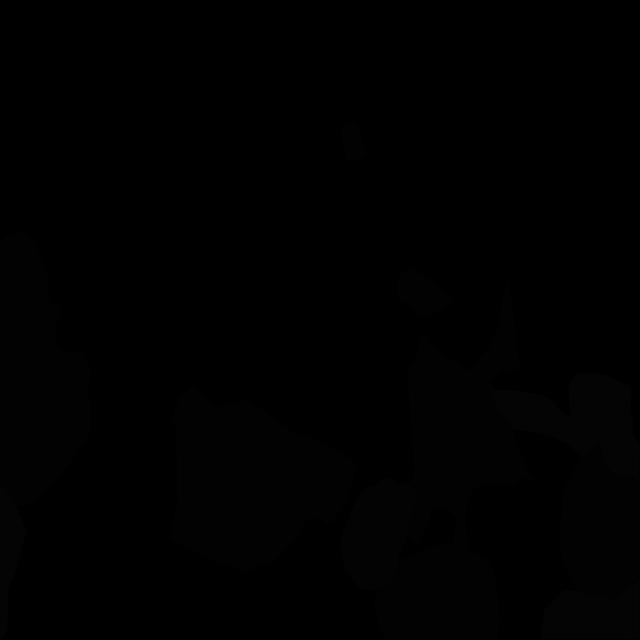cardboard: (171, 385, 356, 572), (407, 282, 536, 549), (0, 232, 92, 506), (560, 442, 640, 601), (373, 542, 500, 640), (397, 268, 454, 317), (341, 123, 368, 163)
metal: (340, 476, 416, 591)
soft_plastic: (489, 372, 640, 483), (540, 577, 640, 639), (0, 483, 26, 640)
